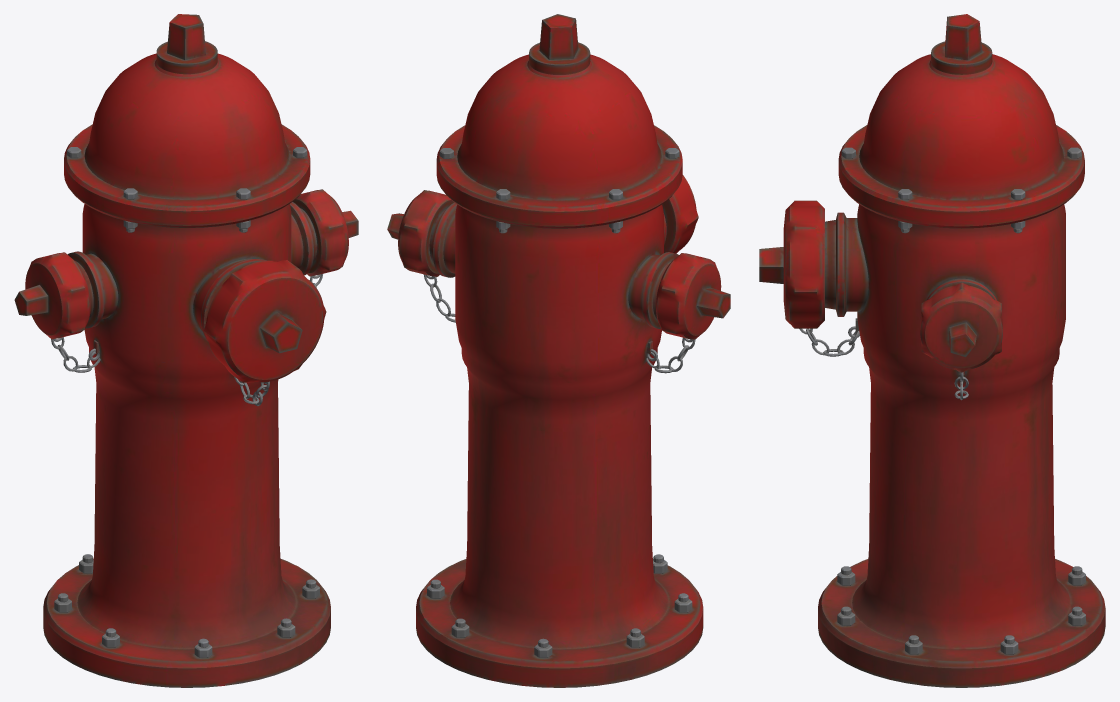
The model's file is fire-hydrant.glb.
The picture shows the model from 3 angles, left to right: view 1: azimuth 30°, elevation 25°; view 2: azimuth 150°, elevation 25°; view 3: azimuth 270°, elevation 25°; orthographic projection.
Parts seen in each view (by area): view 1: fire-hydrant_body; view 2: fire-hydrant_body; view 3: fire-hydrant_body.
Boxes of the visible parts, x1=… form: fire-hydrant_body: x1=14, y1=14, x2=358, y2=687; fire-hydrant_body: x1=387, y1=14, x2=730, y2=687; fire-hydrant_body: x1=759, y1=14, x2=1105, y2=687.
Size of the model in its own units: 0.426 by 0.744 by 0.385.
1 material, 1 textured.
